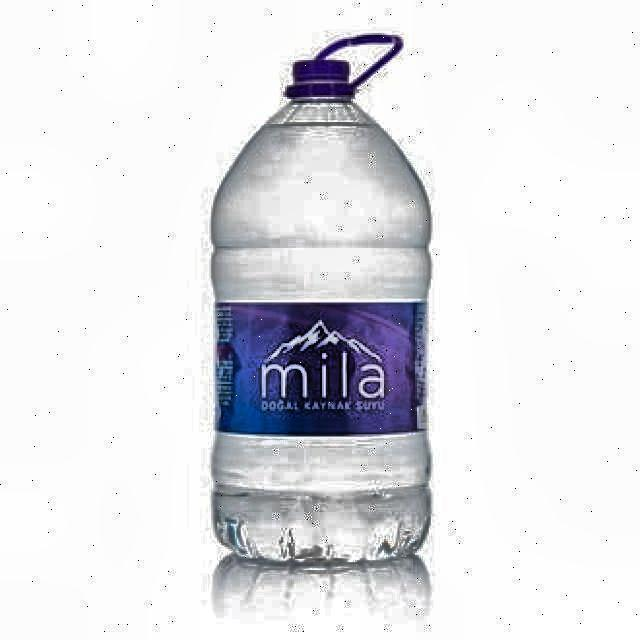plastic: (209, 32, 433, 567)
